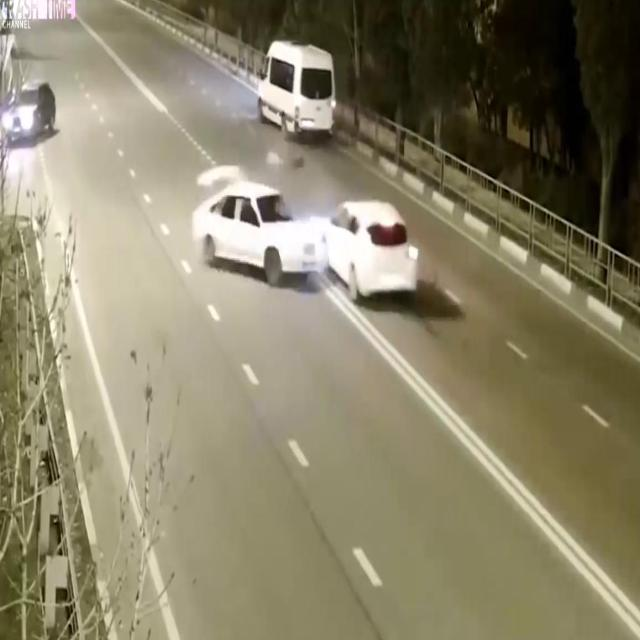accident: (184, 149, 423, 313)
